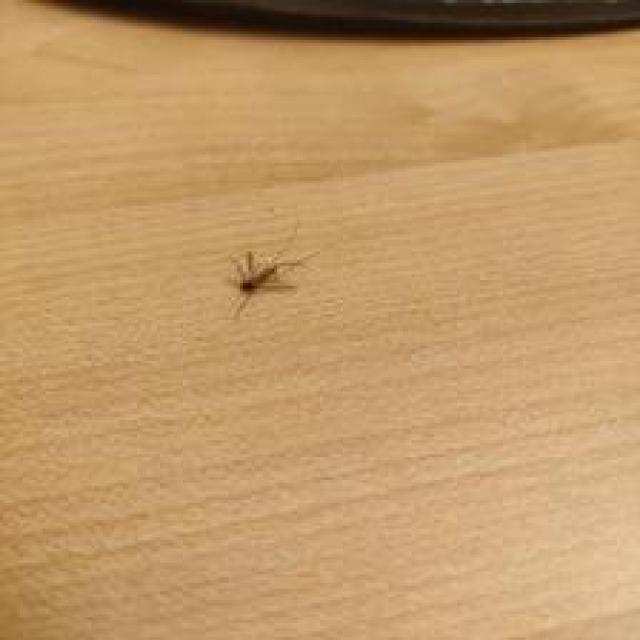Culex: (224, 246, 319, 320)
